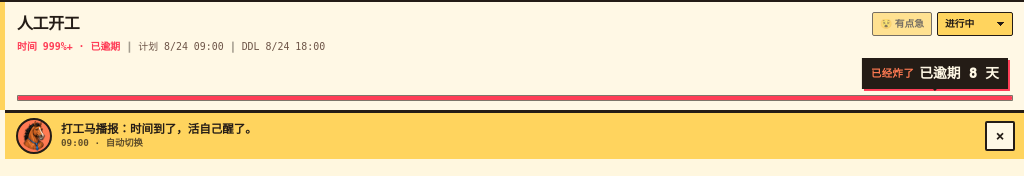
Scenario: TodayTaskBoard › does not broadcast a manual in-progress state and allows early dismissal
Expected: the text "时间 999%+ · 已逾期" is shown, x1=17 y1=41 x2=120 y2=53
Click the button named "收起开工播报" at (1000, 136), box x1=985 y1=121 x2=1015 y2=151
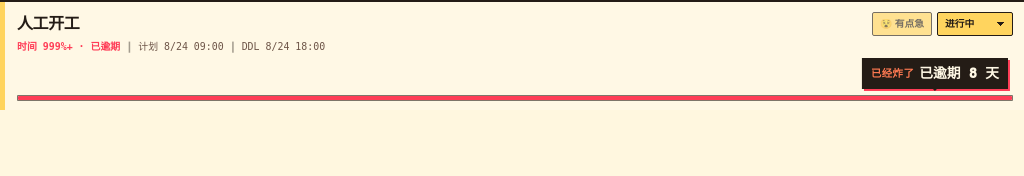
Expected: the message "打工马播报：时间到了，活自己醒了。 09:00 · 自动切换 ×" is gone
